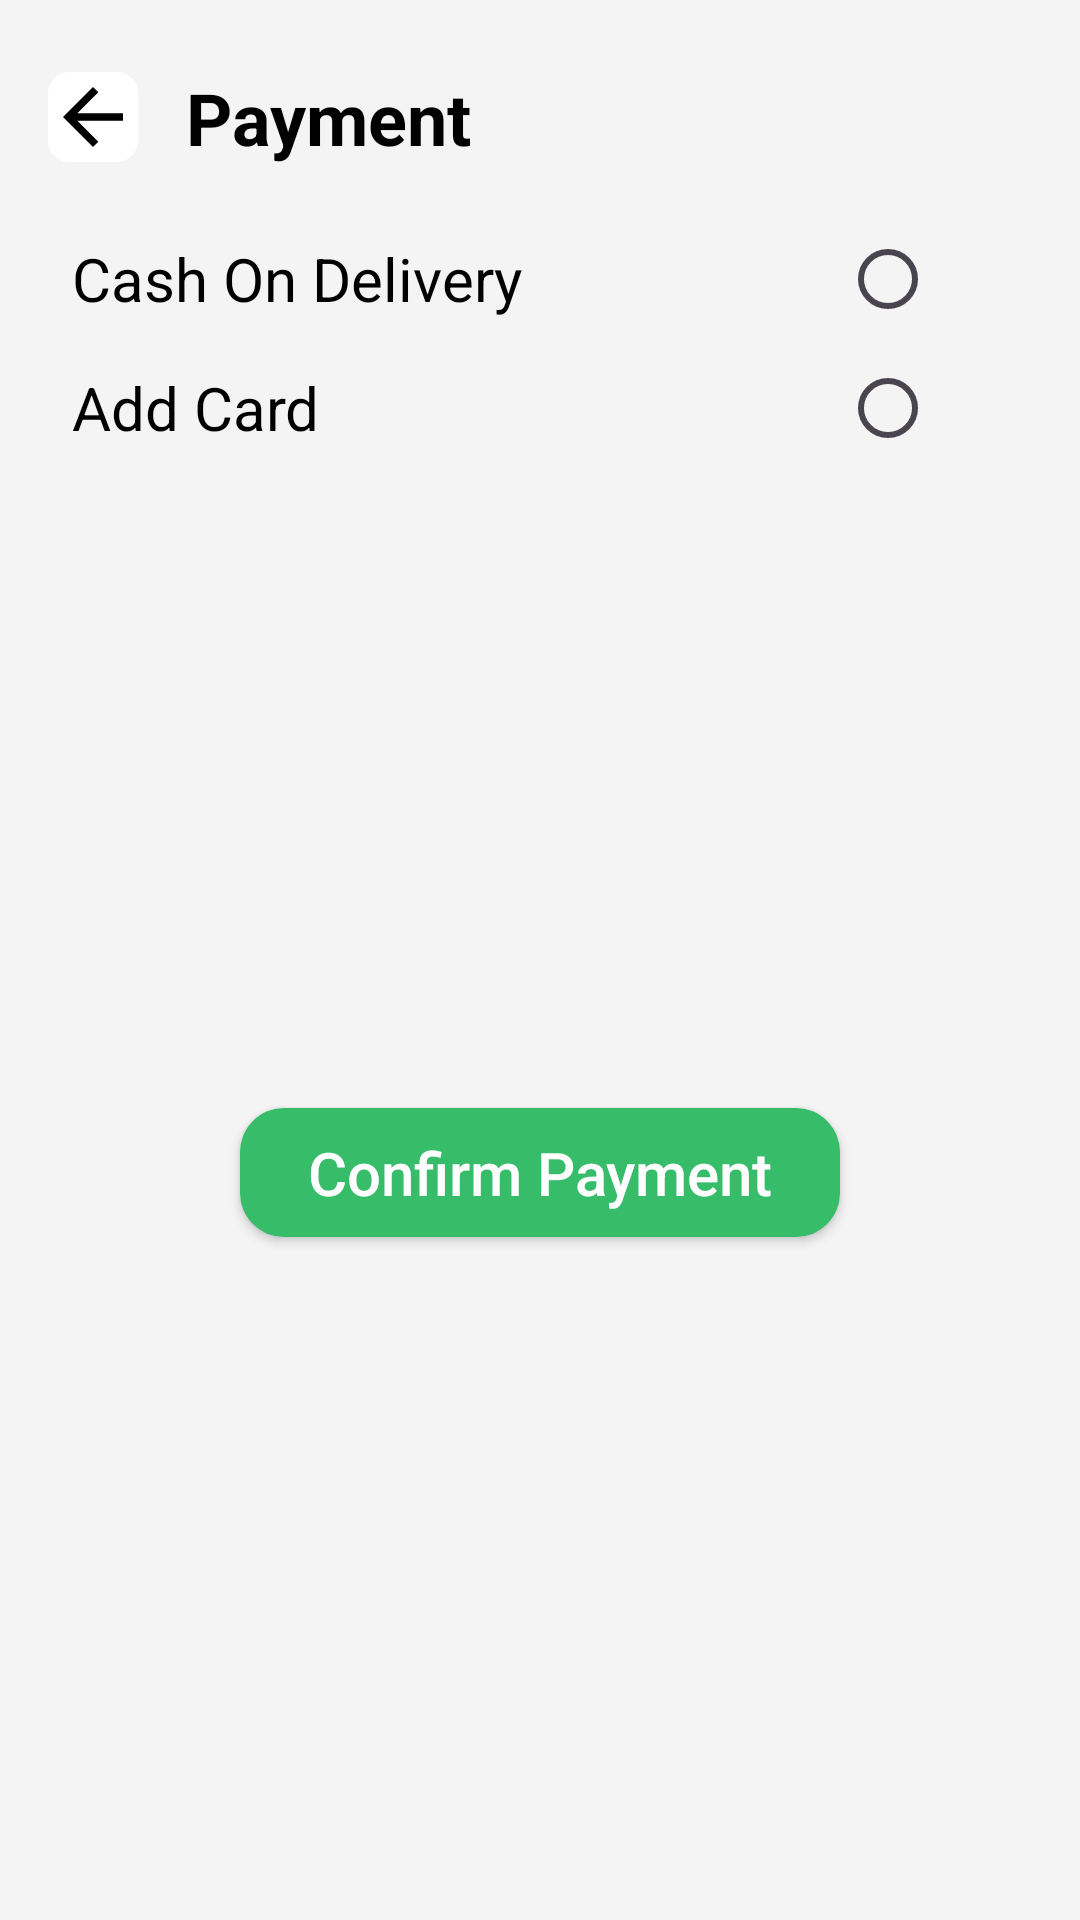

Icons on this 1080 x 1920 Android screen, each with its box as (x1, y1, x2, y2):
back: (48, 72, 138, 162)
